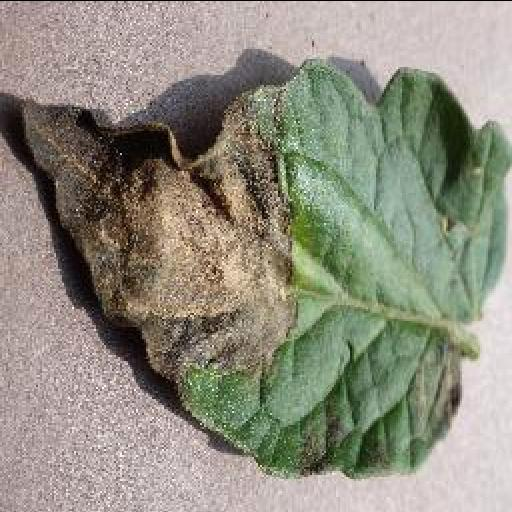disease_tomato: (16, 58, 512, 480)
